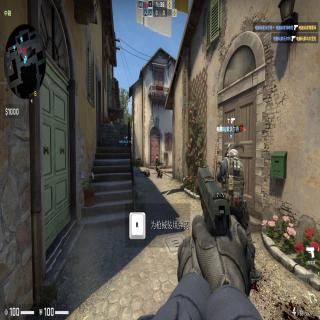CT-Head: (224, 143, 238, 159)
